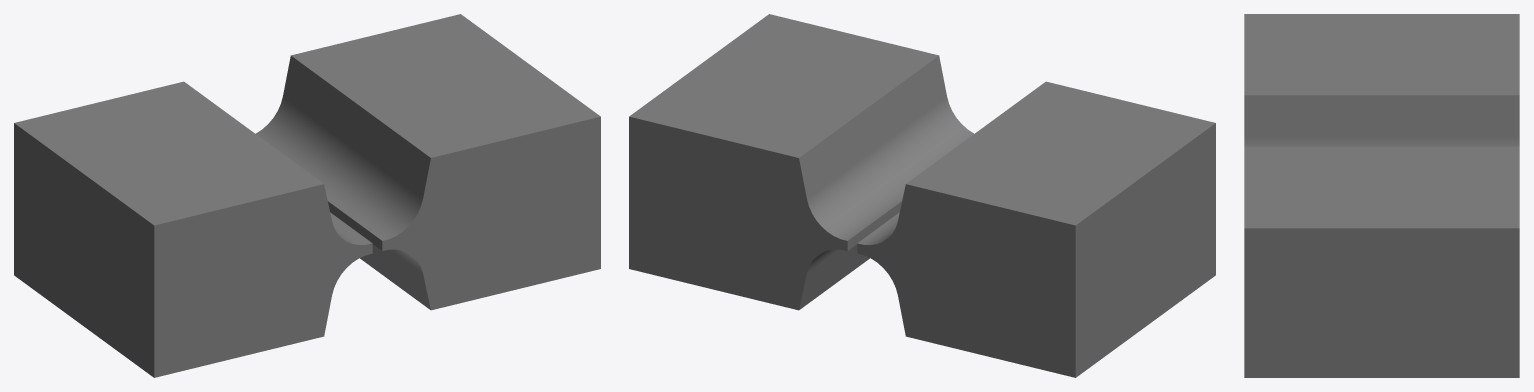
File: С26_Кромки.glb
The picture shows the model from 3 angles, left to right: view 1: azimuth 30°, elevation 25°; view 2: azimuth 150°, elevation 25°; view 3: azimuth 270°, elevation 25°; orthographic projection.
Visible parts, largest first — view 1: node_id3; view 2: node_id3; view 3: node_id3.
Boxes of the visible parts, x1=… form: node_id3: x1=14, y1=14, x2=600, y2=377; node_id3: x1=629, y1=14, x2=1215, y2=377; node_id3: x1=1244, y1=14, x2=1519, y2=377.
Bounding box in the file's own units: 0.512 × 0.167 × 0.2783.
1 material, 1 textured.
